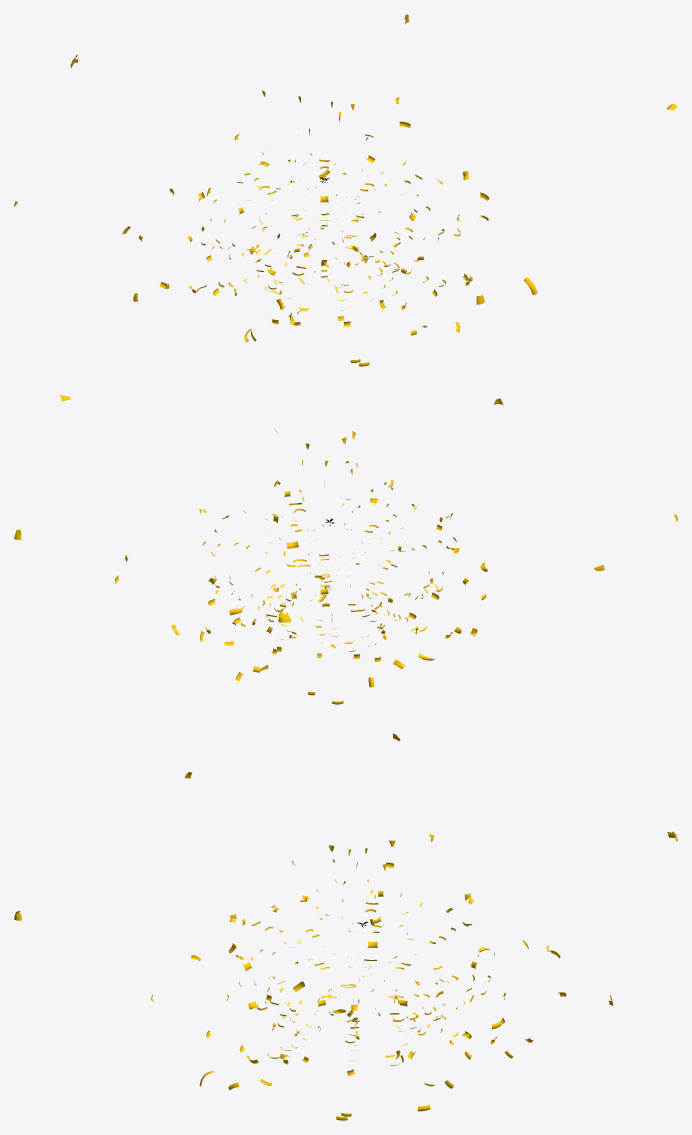
The picture shows the model from 3 angles, top to bottom: view 1: azimuth 30°, elevation 25°; view 2: azimuth 150°, elevation 25°; view 3: azimuth 270°, elevation 25°; orthographic projection. The views are drawn at different scales.
Parts seen in each view (by area): view 1: Torus.006; view 2: Torus.006; view 3: Torus.006.
Boxes of the visible parts, <box> form: Torus.006: <box>14,14,677,366</box>; Torus.006: <box>14,395,677,704</box>; Torus.006: <box>14,733,677,1120</box>.
Size of the model in its own units: 1696 by 562 by 1527.
